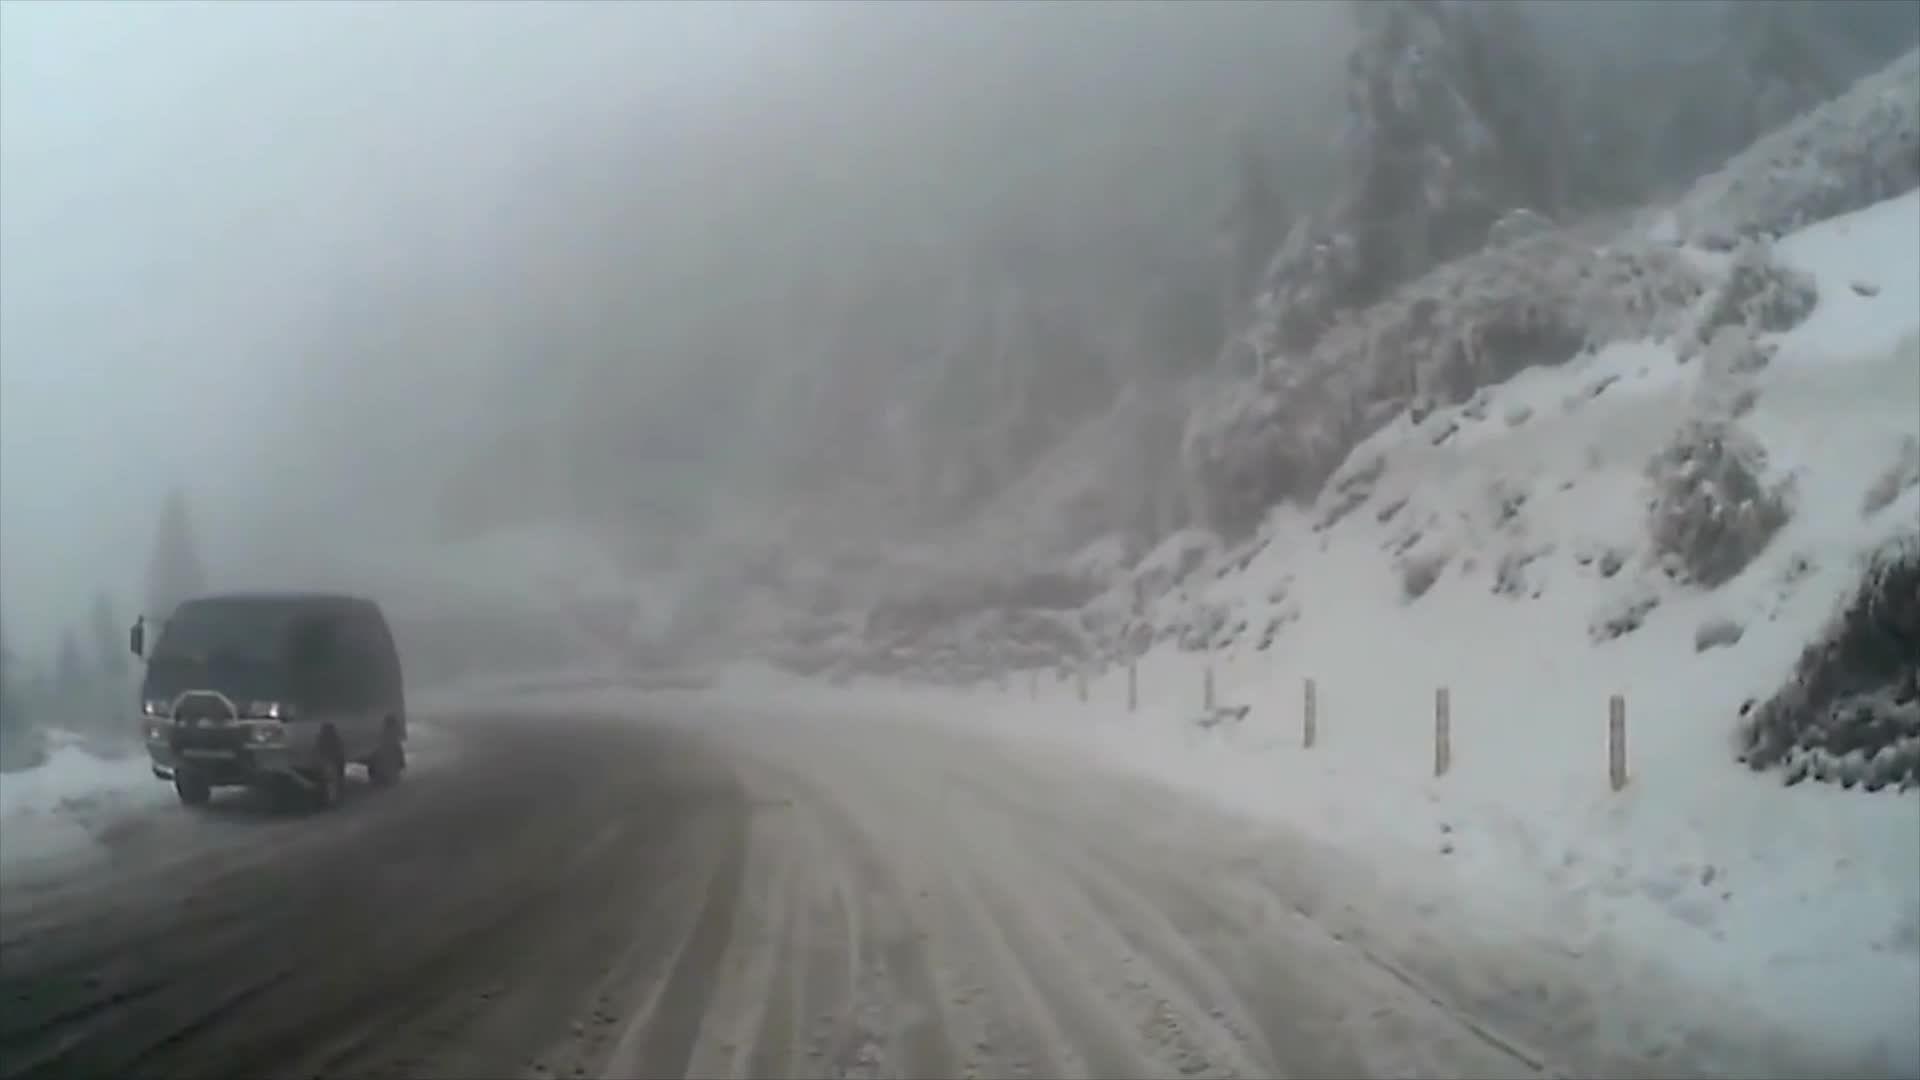vehicle: (127, 593, 409, 818)
